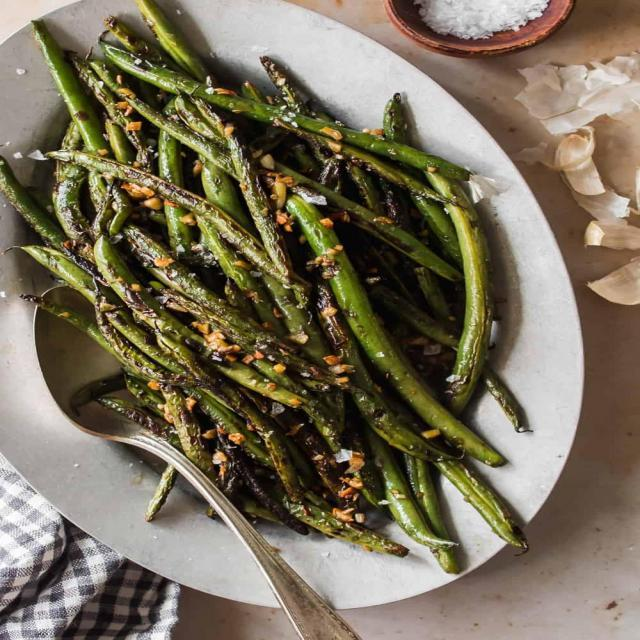Beans: (1, 1, 525, 566)
